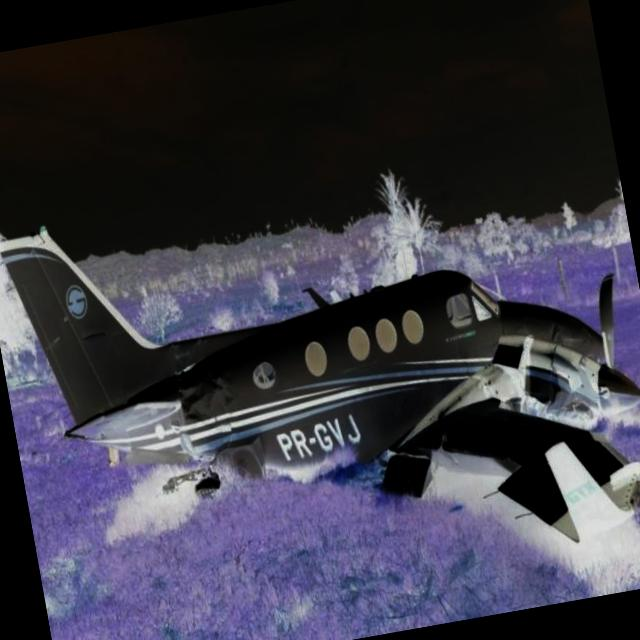dent: (174, 366, 242, 441)
